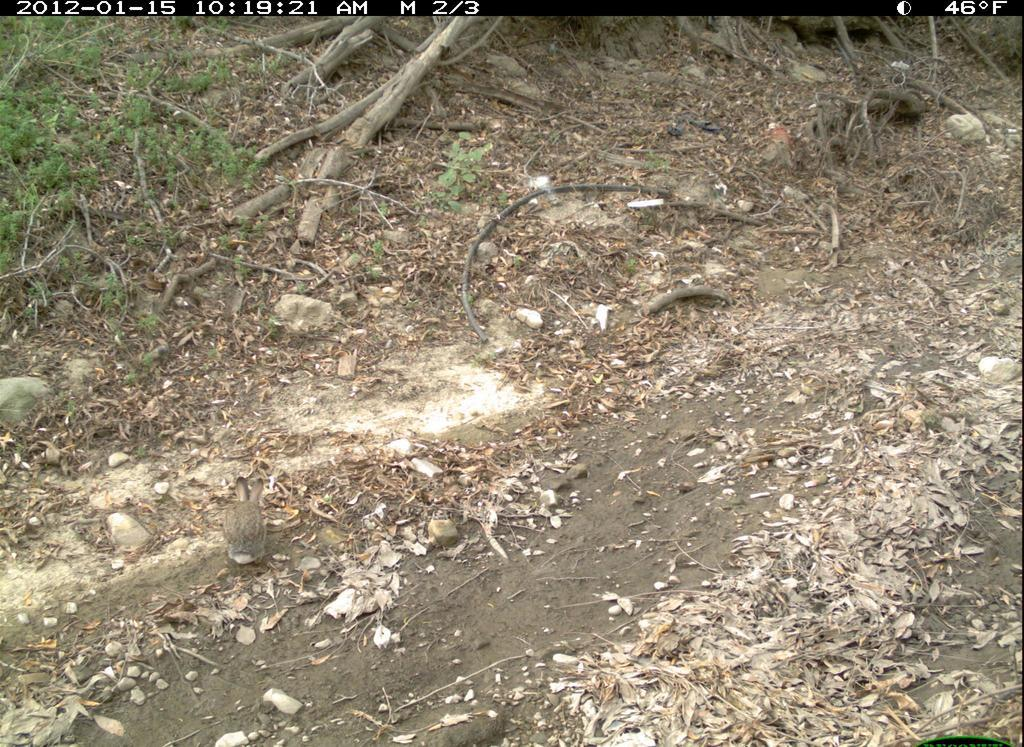rabbit: (204, 464, 294, 580)
